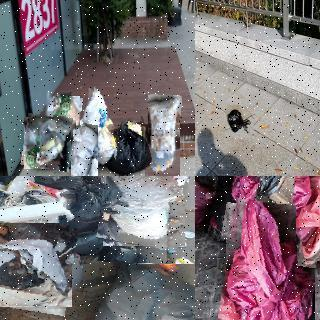Garbage: (221, 200, 319, 320), (0, 218, 74, 311), (81, 261, 195, 320), (99, 176, 188, 249), (63, 182, 125, 232), (210, 176, 256, 242), (22, 115, 75, 171), (146, 94, 181, 176), (109, 117, 153, 174), (295, 176, 320, 261), (236, 176, 303, 204), (82, 86, 113, 141), (70, 124, 98, 176), (51, 95, 82, 135), (195, 178, 217, 231), (225, 106, 255, 138), (76, 176, 128, 187)
